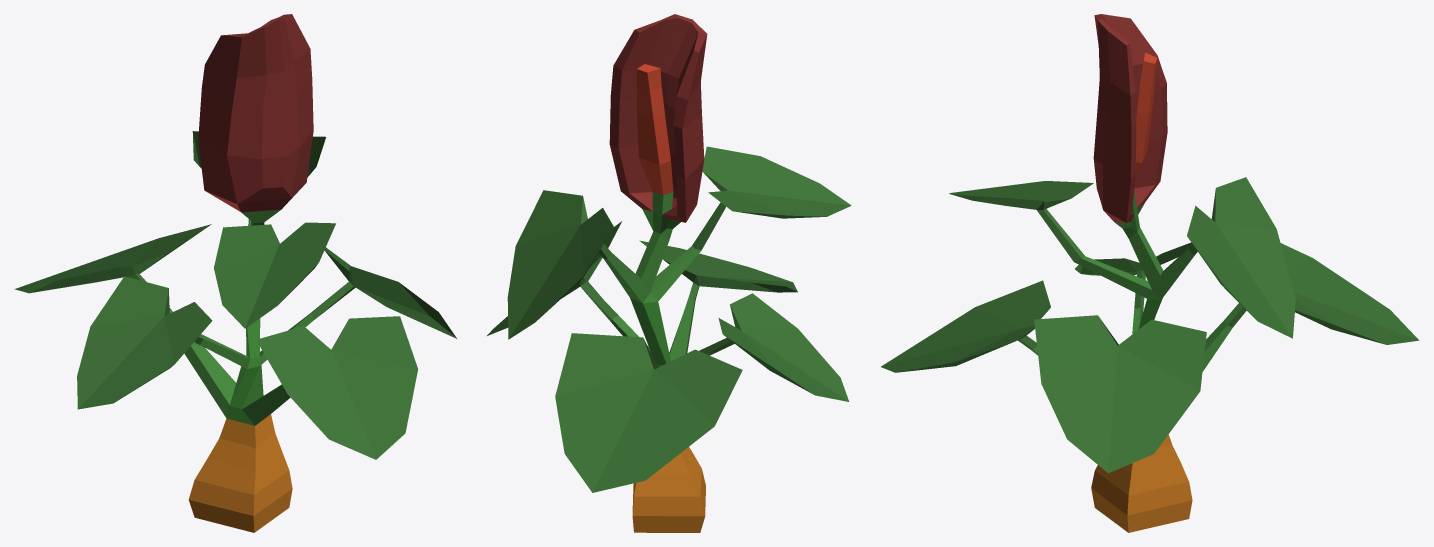
Rendered from TaroForage.fbx.
3 views of the same model, side by side, from view 1: azimuth 30°, elevation 25°; view 2: azimuth 150°, elevation 25°; view 3: azimuth 270°, elevation 25° (orthographic). The views are drawn at different scales.
Visible parts, largest first — view 1: TaroForageBush; view 2: TaroForageBush; view 3: TaroForageBush.
Part boxes in pixels (<box>): TaroForageBush: <box>14,14,456,532</box>; TaroForageBush: <box>486,14,851,532</box>; TaroForageBush: <box>881,14,1419,532</box>.
Bounding box in the file's own units: 97.5 × 126 × 123.
